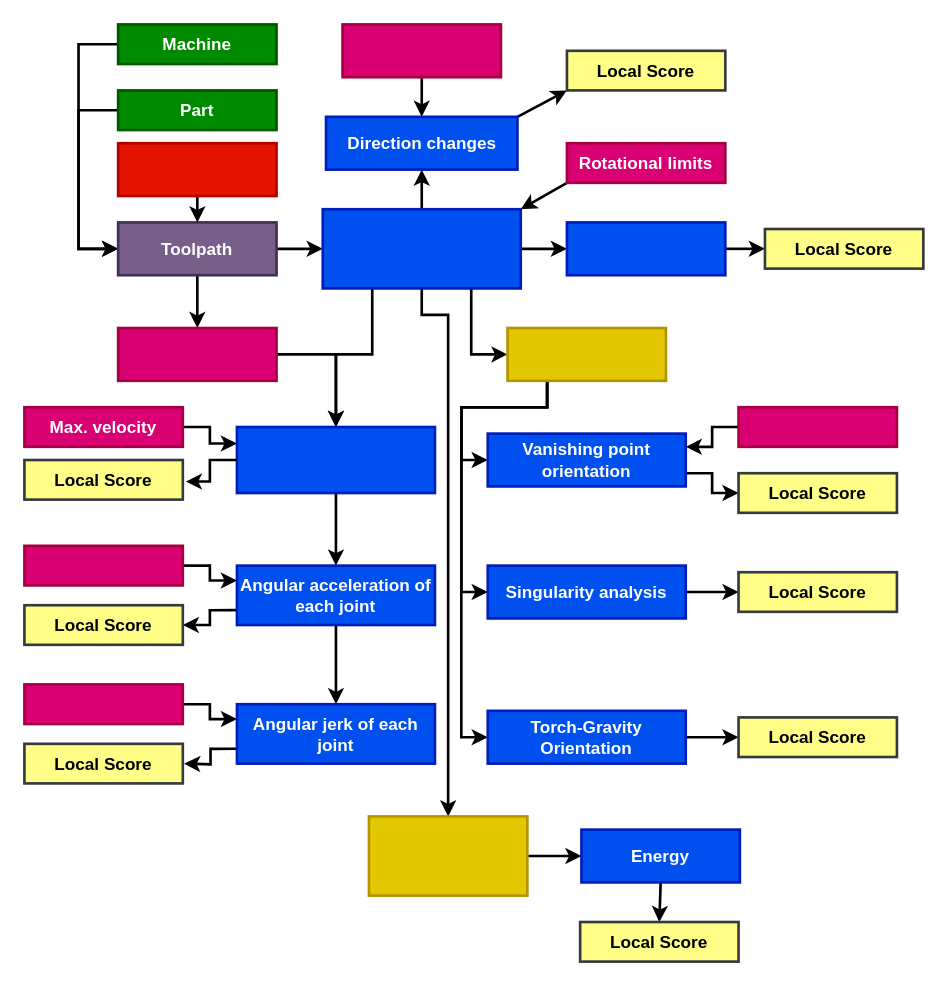
Image size: 946x985. Some labels were removed from this diagram. Each missing label, with the box of its shape:
Angular position of each joint: (321, 207, 521, 289)
Angular velocity of each joint: (235, 425, 436, 494)
Boundary Conditions: (116, 141, 277, 197)
Forwards kinematics: (506, 326, 667, 381)
Max. acceleration: (22, 544, 183, 586)
Max. jerk: (22, 682, 183, 725)
Scaling / MBS / Machine Learning: (367, 814, 528, 896)
Standard Deviation: (341, 22, 502, 78)
Temporal Information: (116, 326, 277, 381)
Total travel: (565, 220, 726, 276)
Vanishing point: (737, 405, 898, 447)
